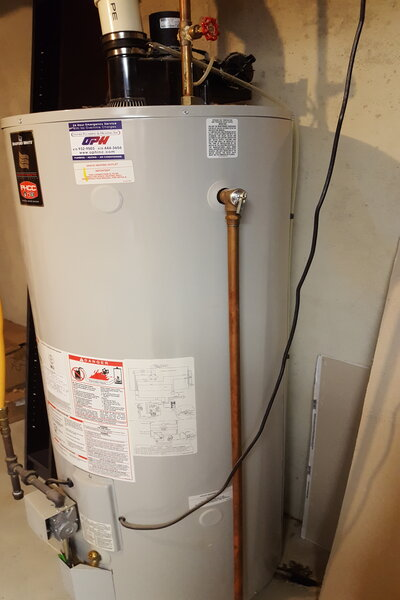valve: (217, 186, 249, 229)
